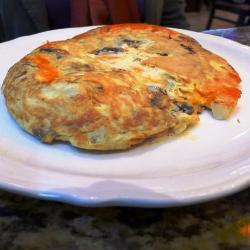omelette: (14, 23, 240, 148)
